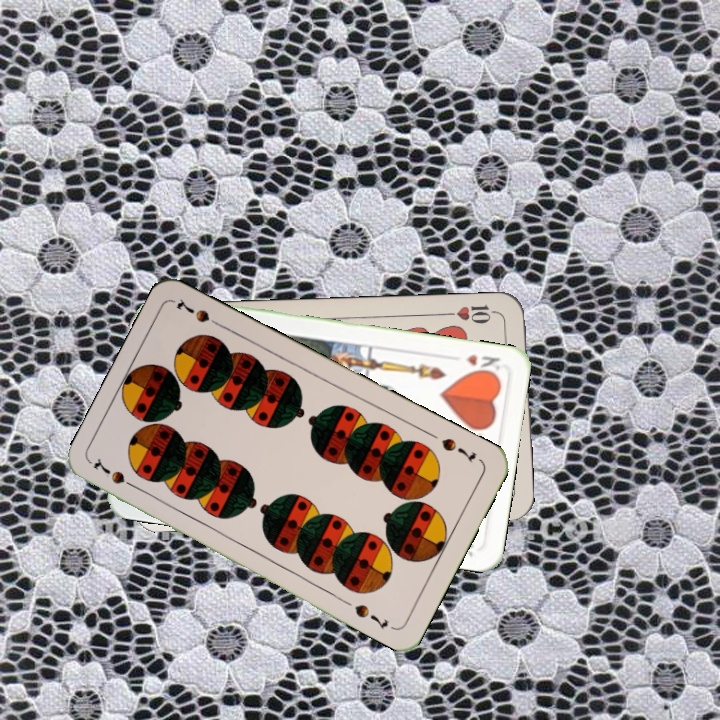H10: (442, 300, 501, 327)
HK: (462, 350, 503, 373)
S7: (89, 455, 143, 493), (437, 433, 479, 466)
